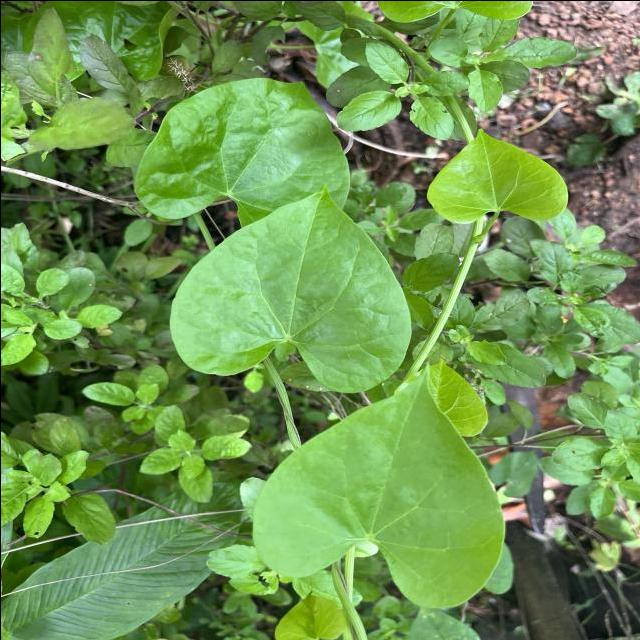Tinospora cordifolia: (247, 359, 508, 609), (166, 180, 414, 394), (132, 76, 353, 232), (424, 124, 570, 226)
